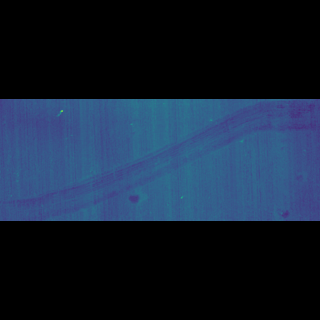Loch: (10, 135, 317, 183)
